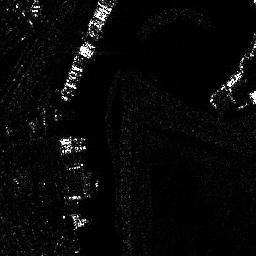ship: (225, 70, 244, 86)
